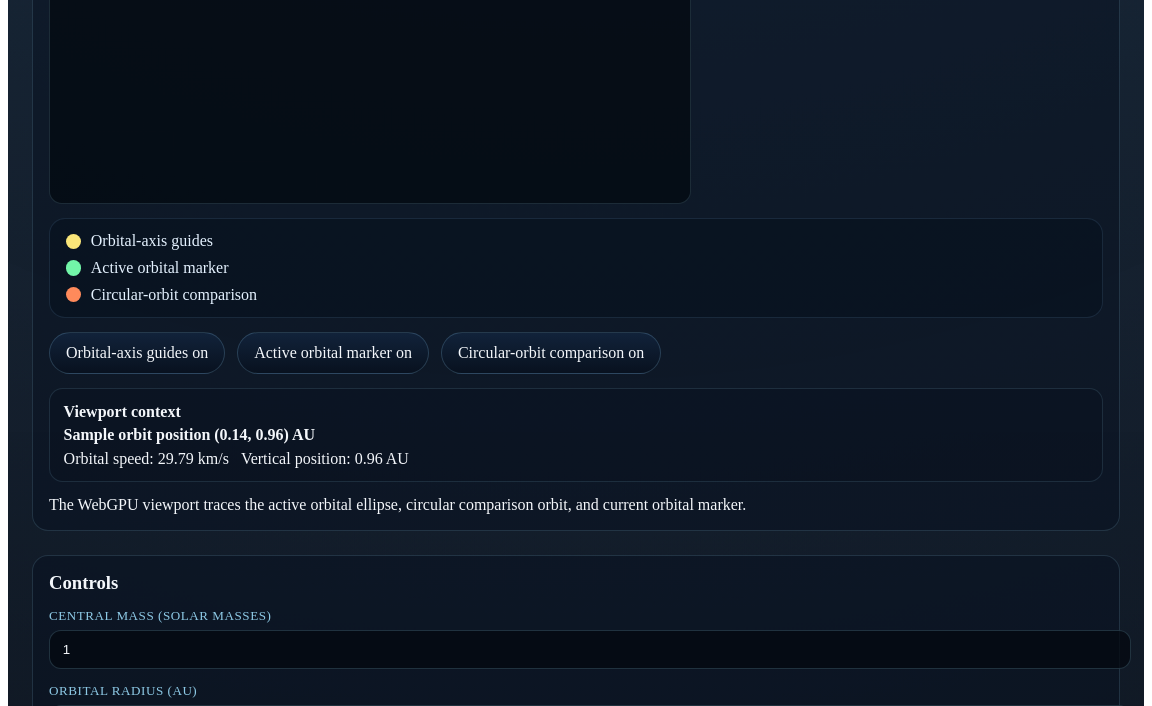
Test case: AstrophysicsPageComponent › toggles viewport overlays and reflects the change in the export preview
The image size is (1152, 706).
(page scrolled)
Click the button "Orbital-axis guides on": click(137, 353) [49, 332, 225, 374]
(page scrolled)
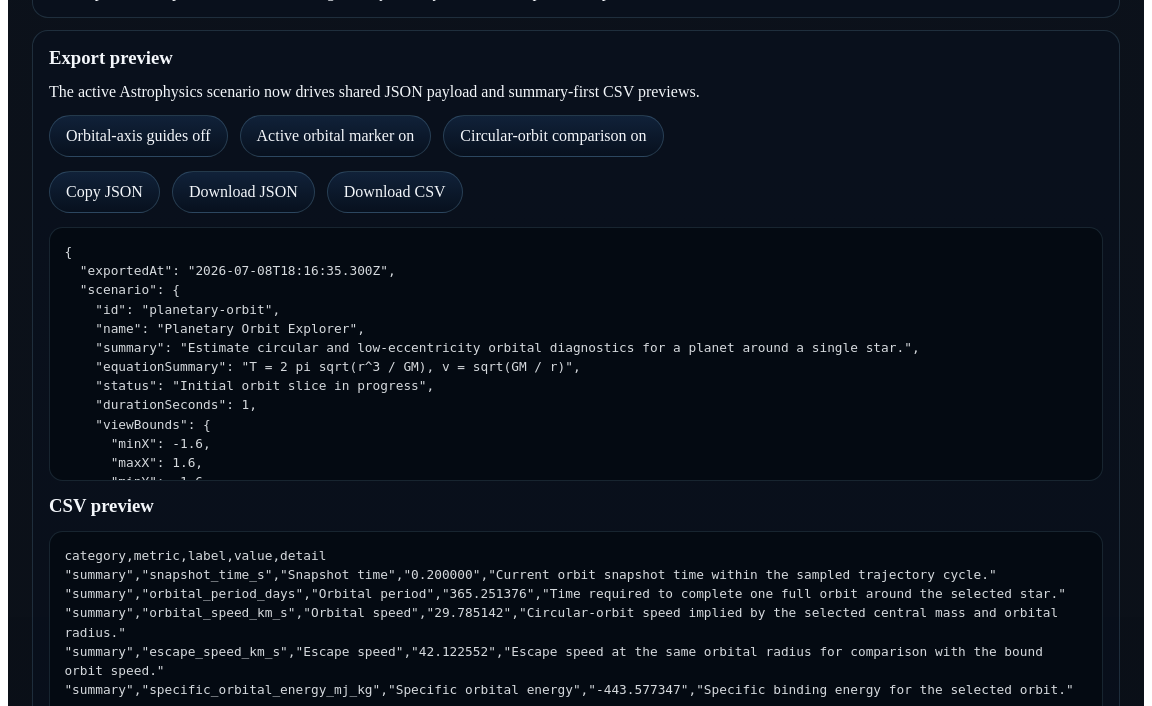
Expected: the text "Orbital-axis guides off" is shown, [49, 115, 228, 157]
